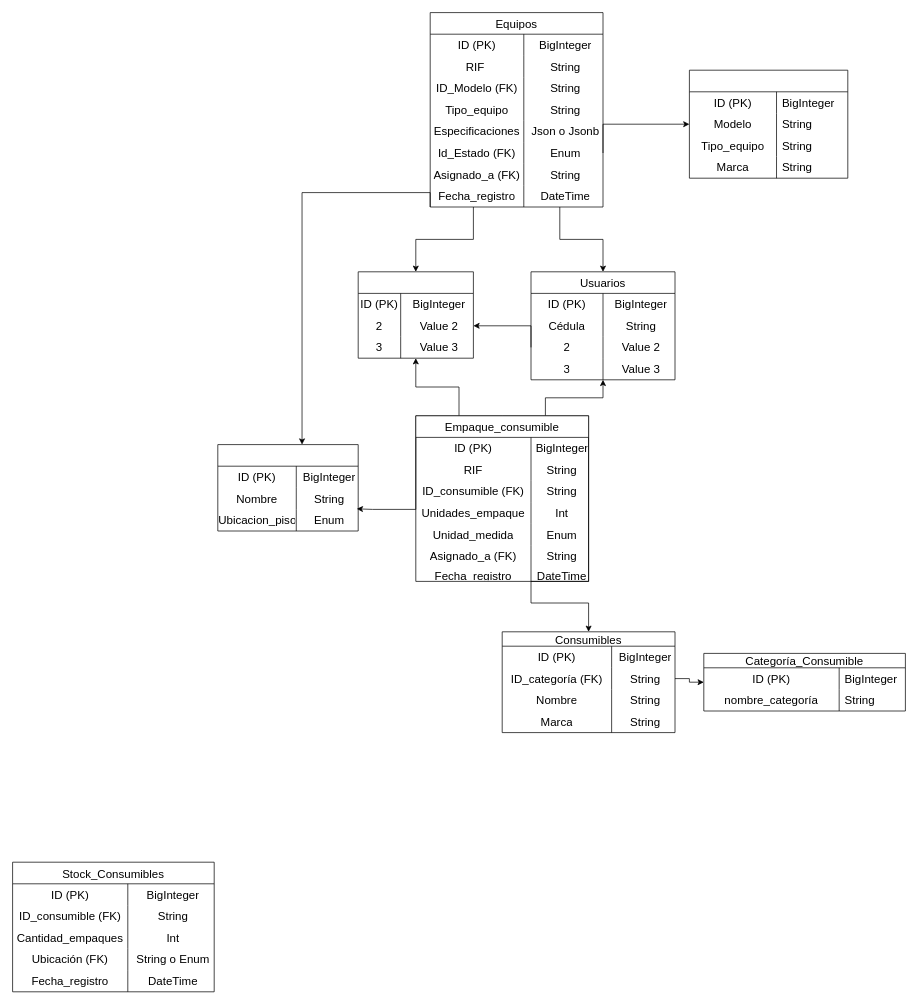
This 918x1004 diagram has some shape labels left out. Each missing label, with the box of its shape:
Almacenes: (217, 444, 358, 531)
Departamentos: (357, 271, 473, 358)
Modelos_equipos: (689, 69, 848, 178)
